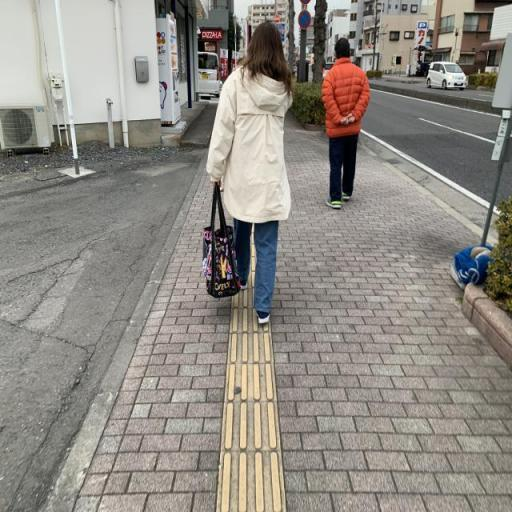line: (221, 401, 281, 452), (223, 362, 277, 403), (227, 332, 274, 365)
